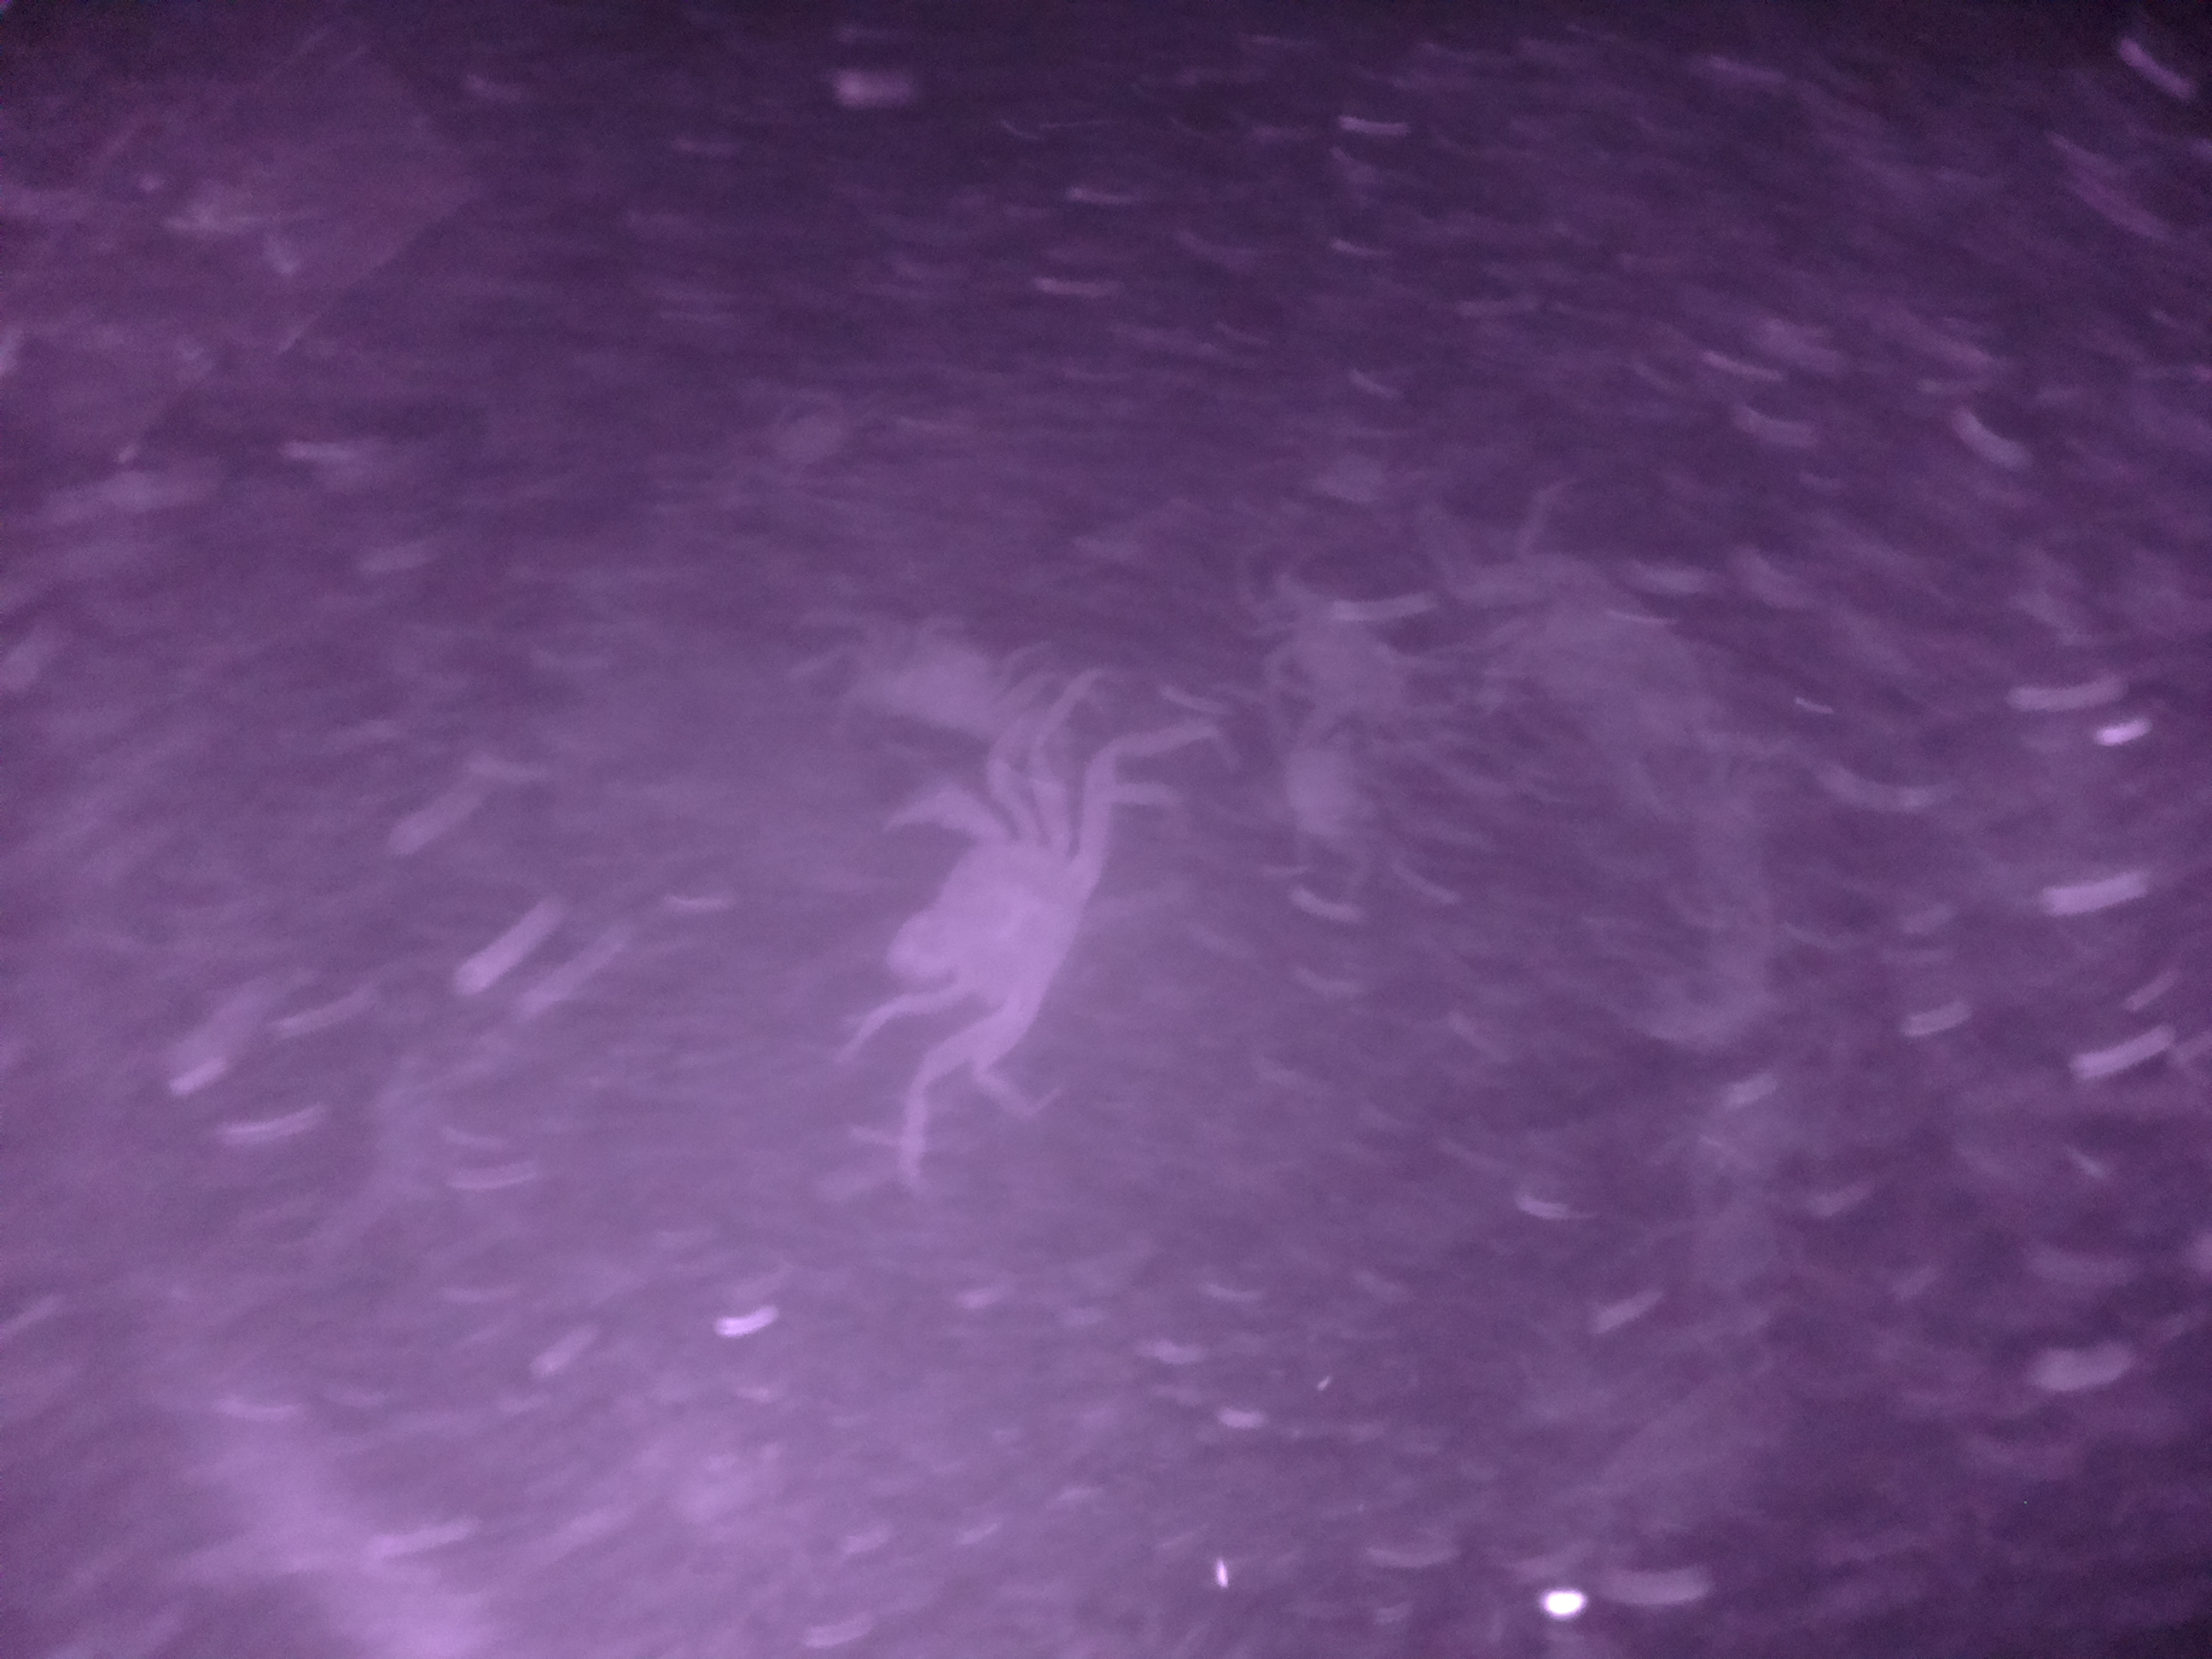Crab: (874, 751, 1127, 1044)
